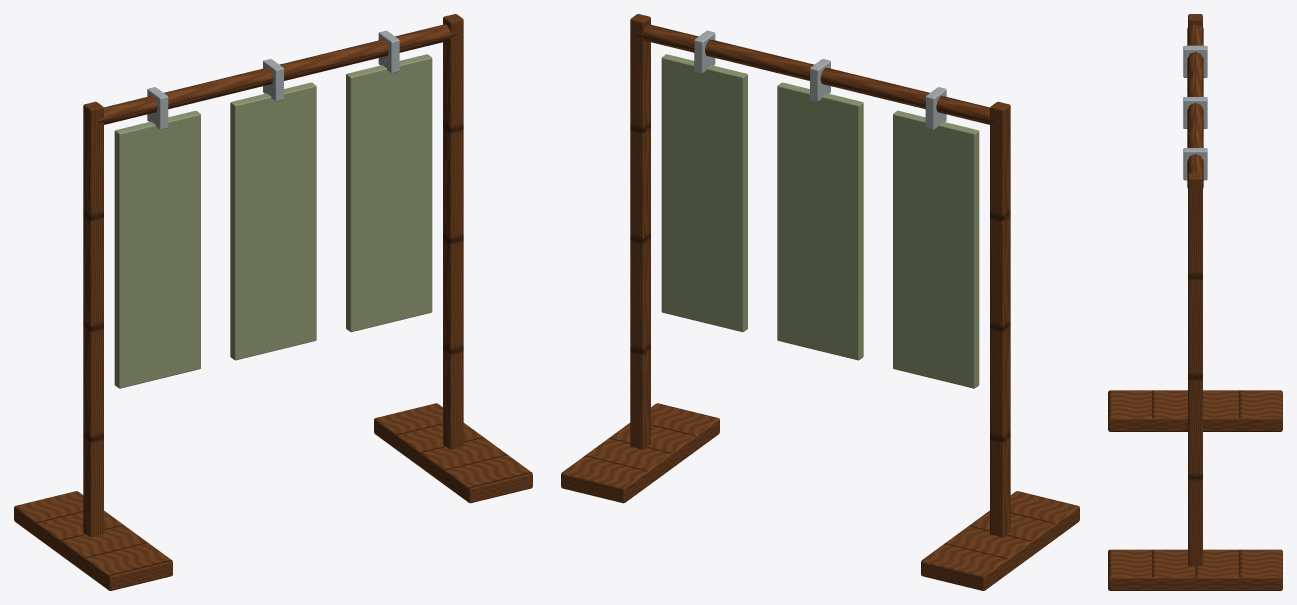
The model's file is flooded-and-coastal-survival-raincloak-drying-rail-a55e1eec__20089.glb.
3 renders of one model, left to right at view 1: azimuth 30°, elevation 25°; view 2: azimuth 150°, elevation 25°; view 3: azimuth 270°, elevation 25°, orthographic. The views are drawn at different scales.
Visible parts, largest first — view 1: raincloak-drying-rail; view 2: raincloak-drying-rail; view 3: raincloak-drying-rail.
Boxes of the visible parts, bbox=[...] form: raincloak-drying-rail: bbox=[14, 14, 532, 590]; raincloak-drying-rail: bbox=[561, 14, 1079, 590]; raincloak-drying-rail: bbox=[1108, 14, 1282, 590].
Size of the model in its own units: 1.65 by 1.65 by 0.65.
3 materials, 1 textured.
